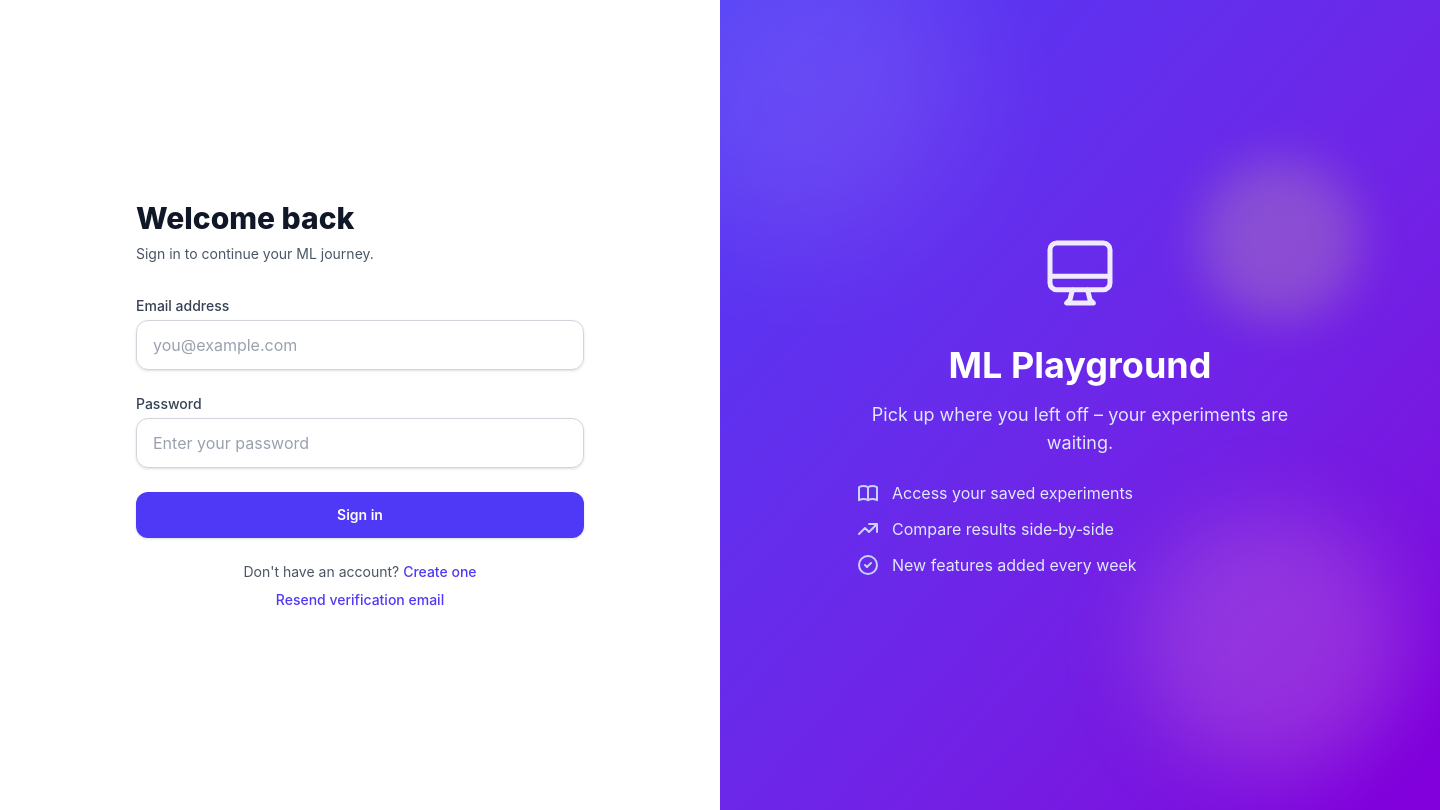
Test: LoginPage › Form Submission › shows loading state while submitting
The image size is (1440, 810).
Type "test@example.com" into the field labelled "Email address". click: point(360, 345)
box: [136,320,584,370]
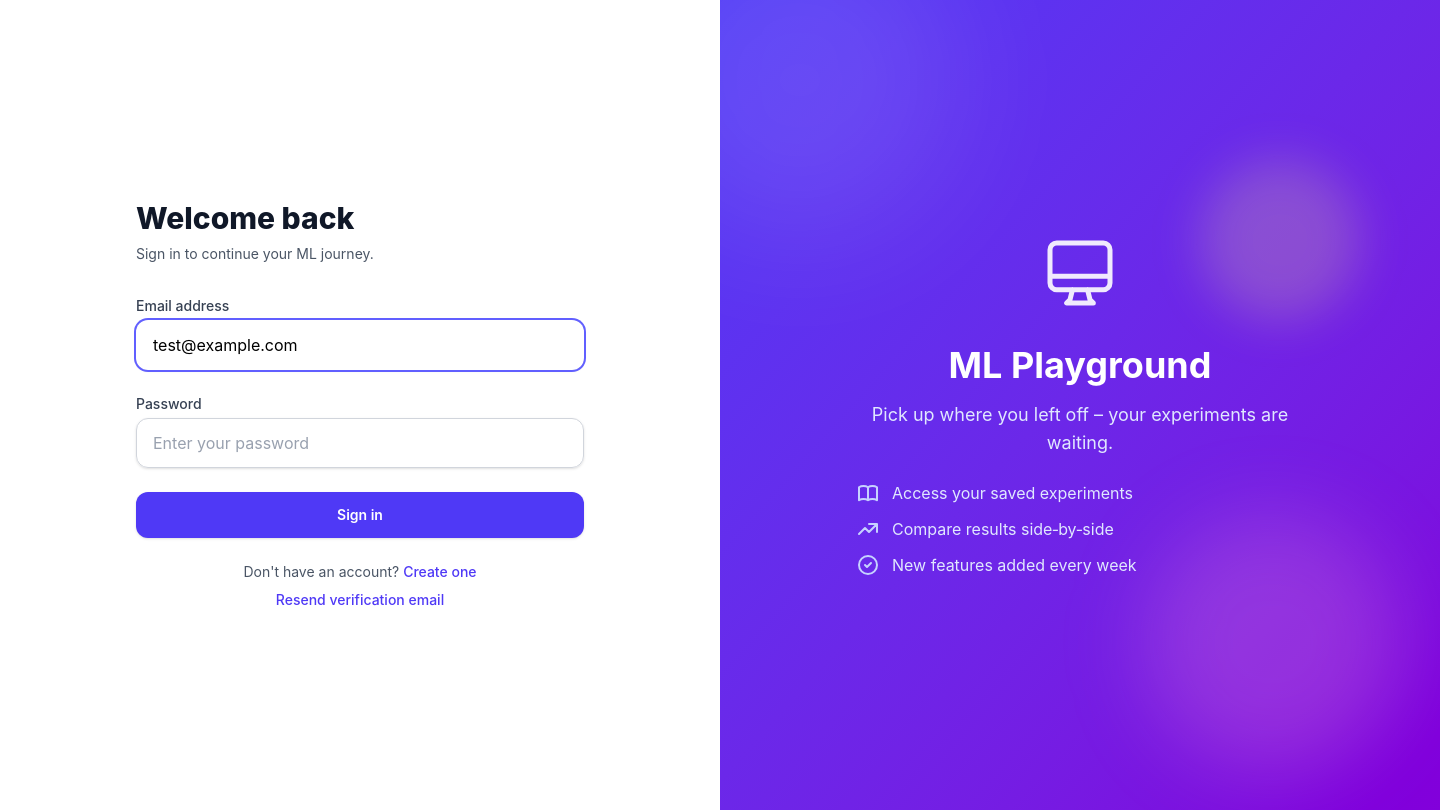
Type "password123" into the password field labelled "Password". click: point(360, 443)
box: [136,418,584,468]
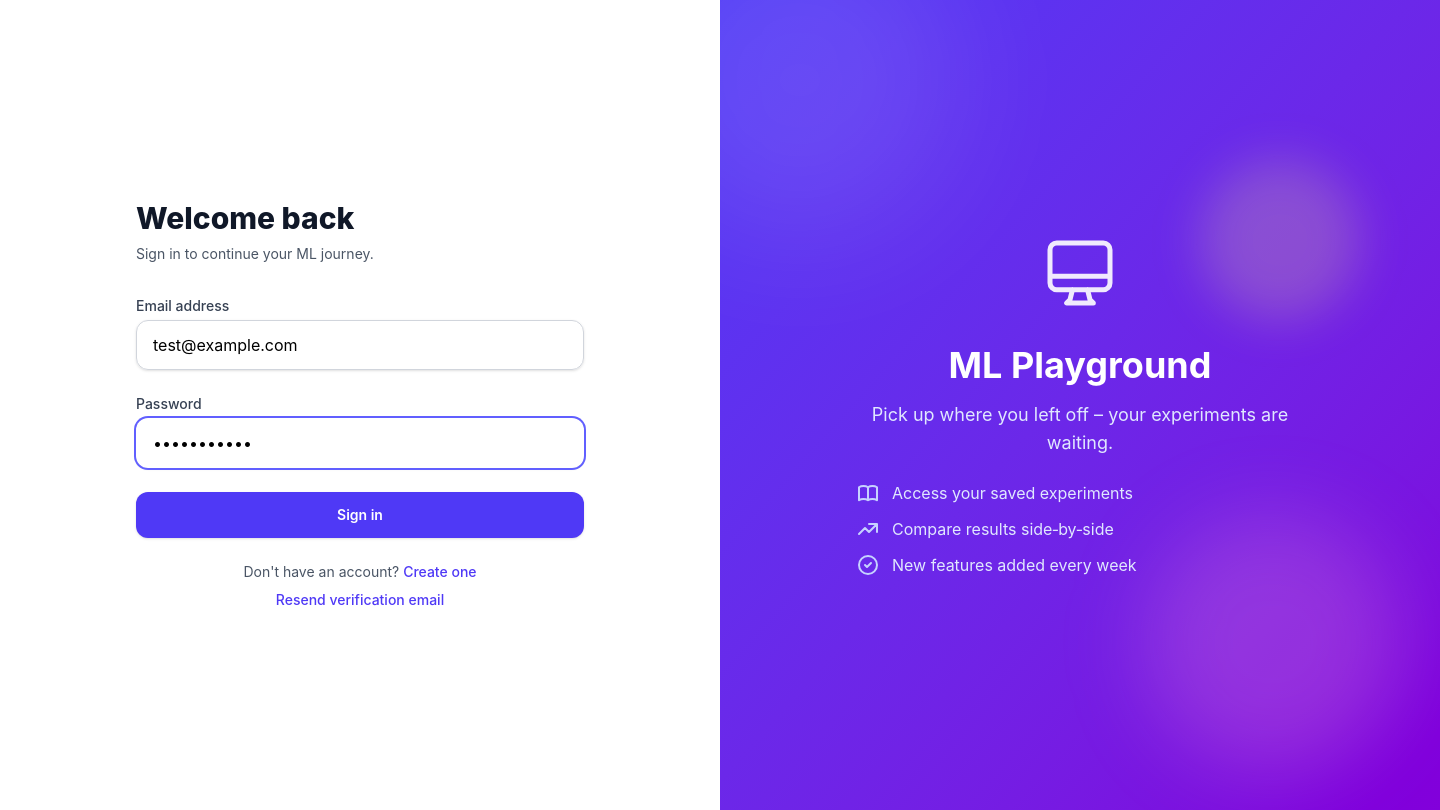
Click the button "Sign in". click: point(360, 515)
box: [136,492,584,538]
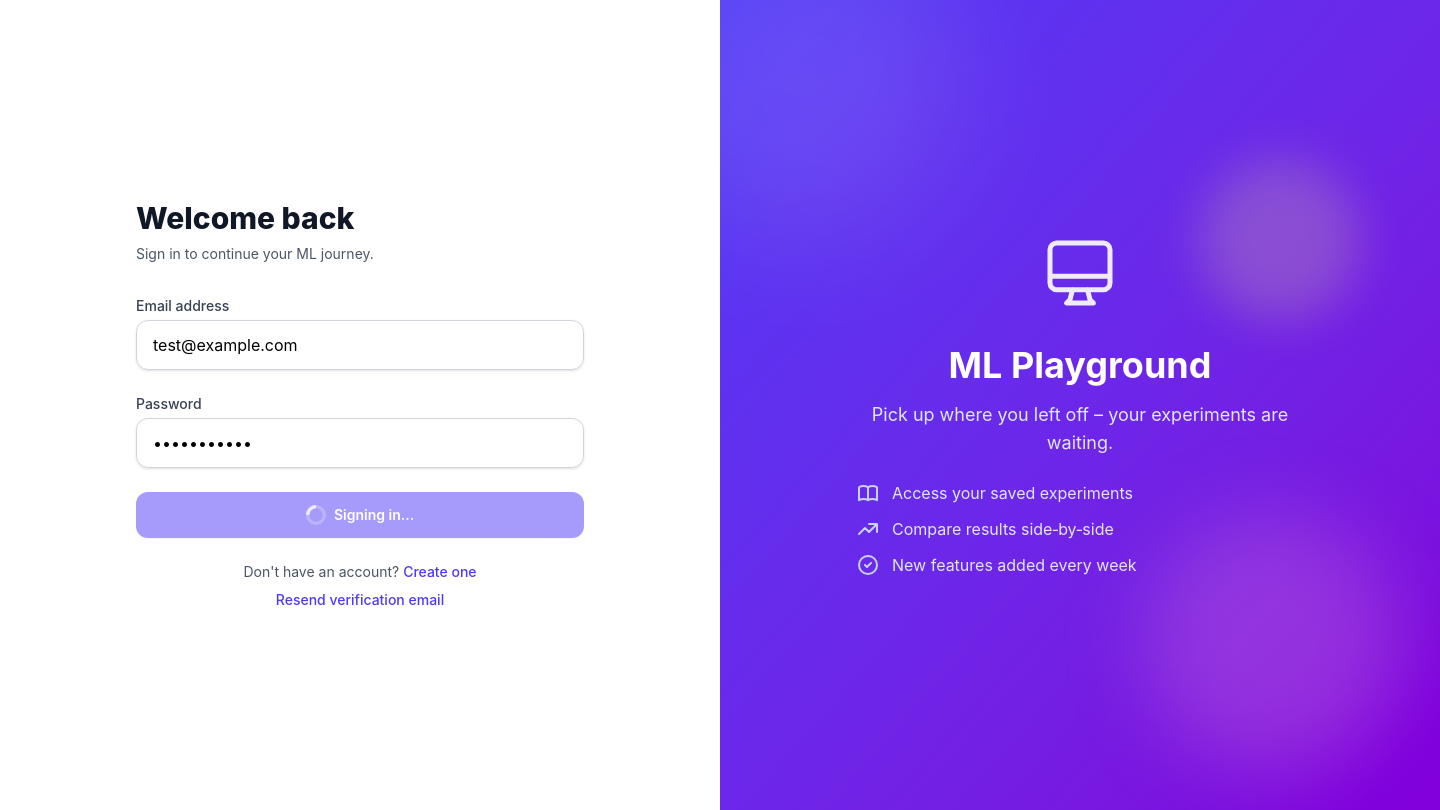
Check: the text "Sign in to continue your ML journey." is shown, box [136,245,374,262]
Check: the text "Signing in..." is shown, box [306,505,414,525]
Check: the button named "sign in" is disabled, box [136,492,584,538]
